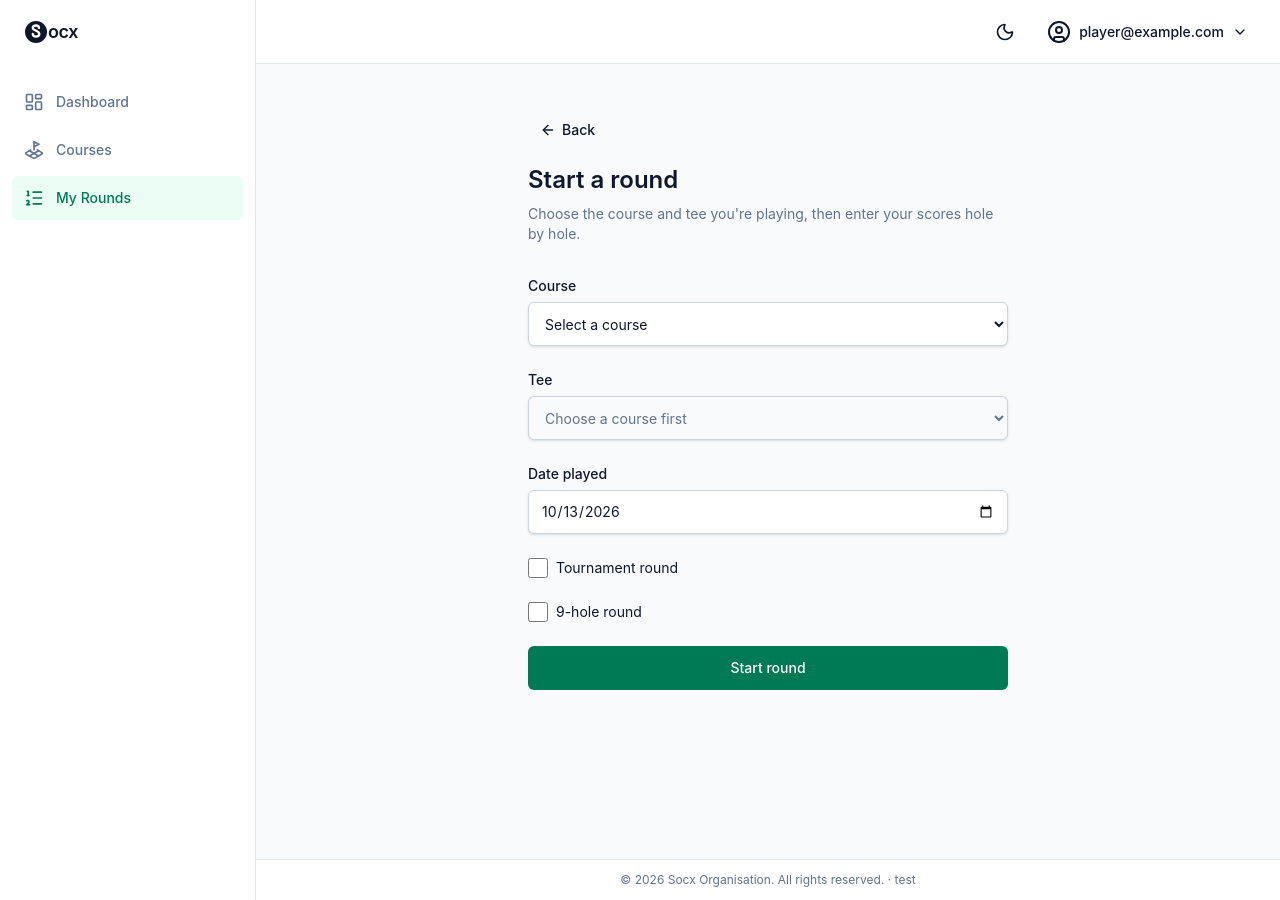
NewRoundPage › creates the round and navigates to its entry screen
Select "Test Links" in the dropdown labelled "Course": (768, 324) [528,302,1008,346]
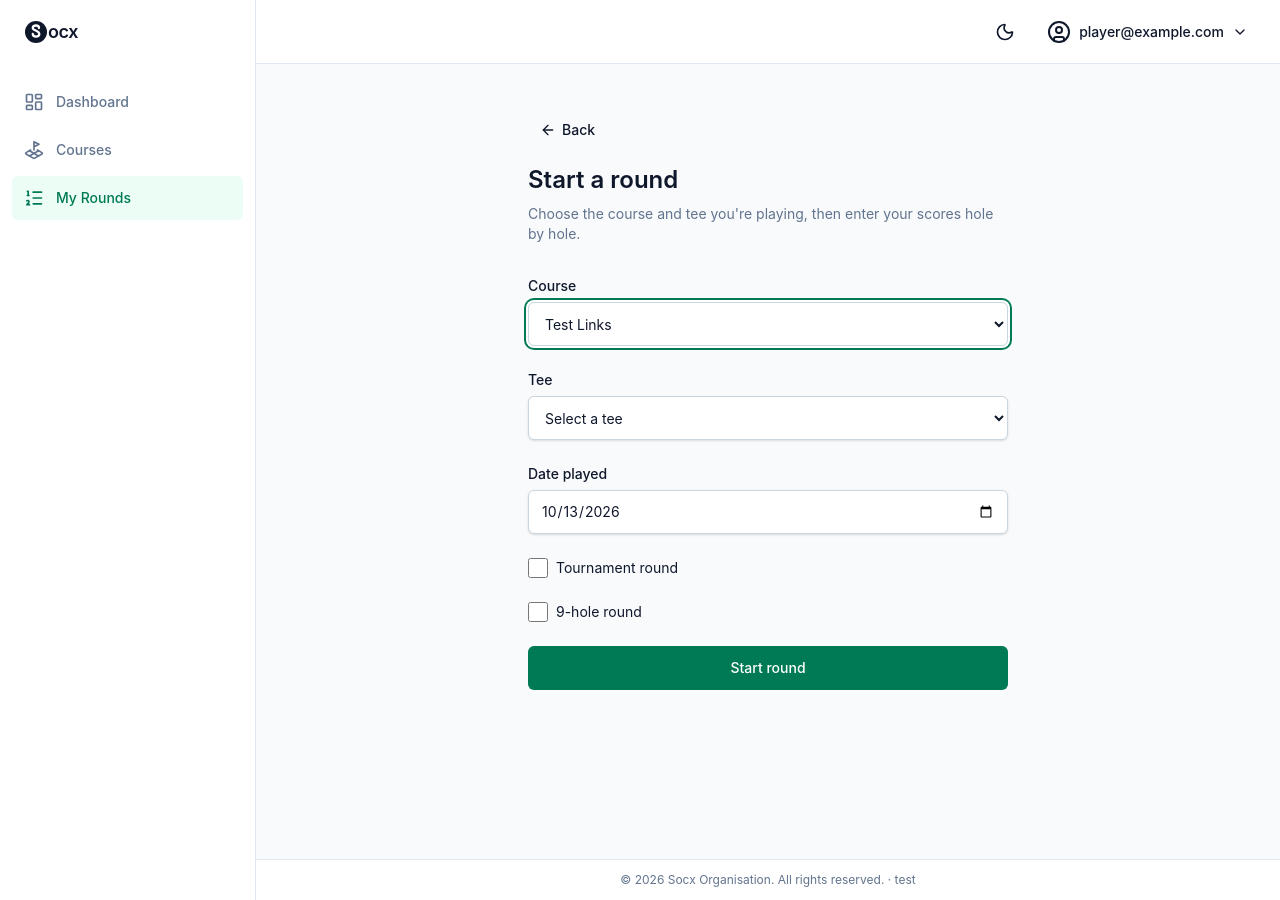
Expected: the dropdown labelled "Tee" is enabled
Select "White (18 holes)" in the dropdown labelled "Tee": (768, 418) [528,396,1008,440]
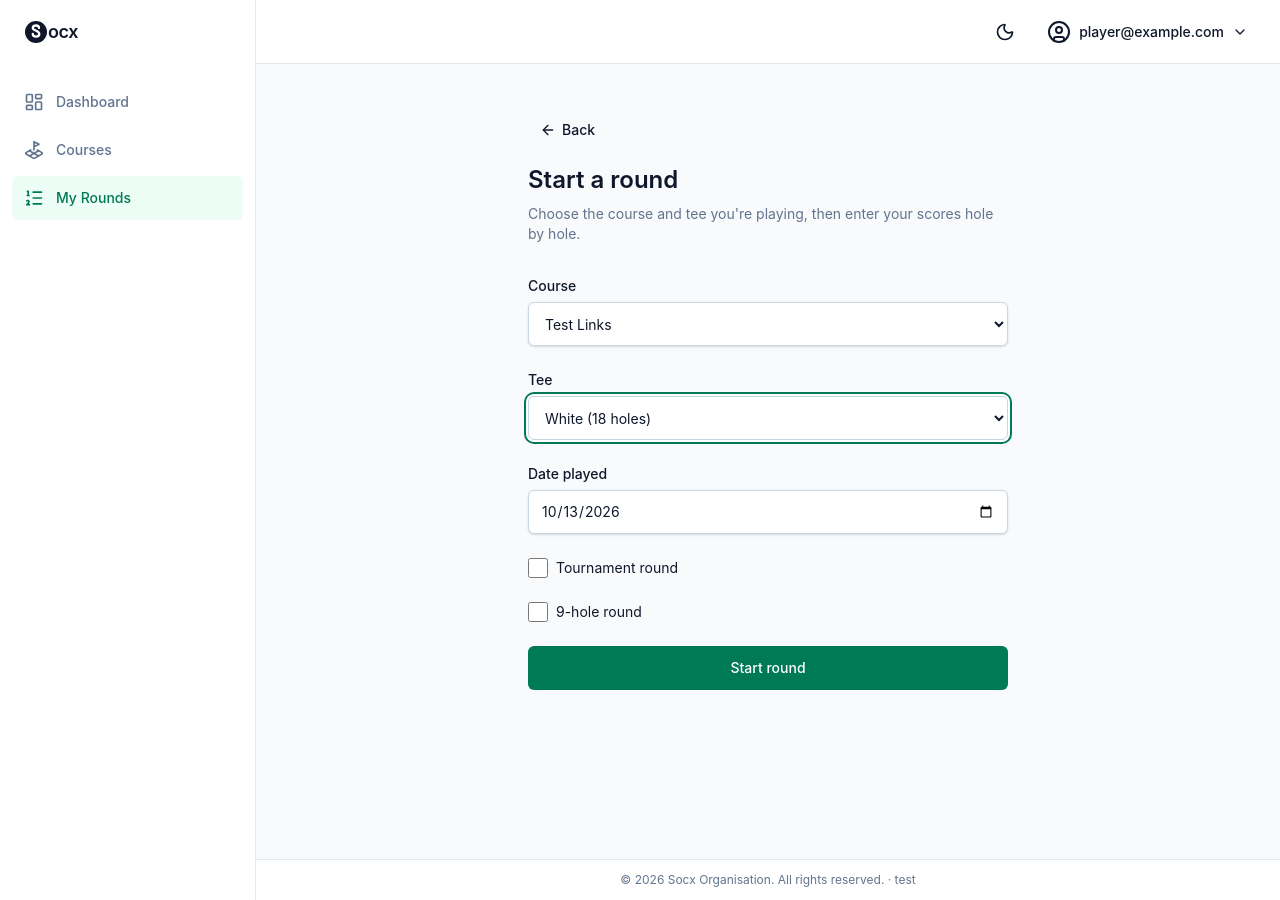
Click the button "Start round": click(768, 668) [528,646,1008,690]
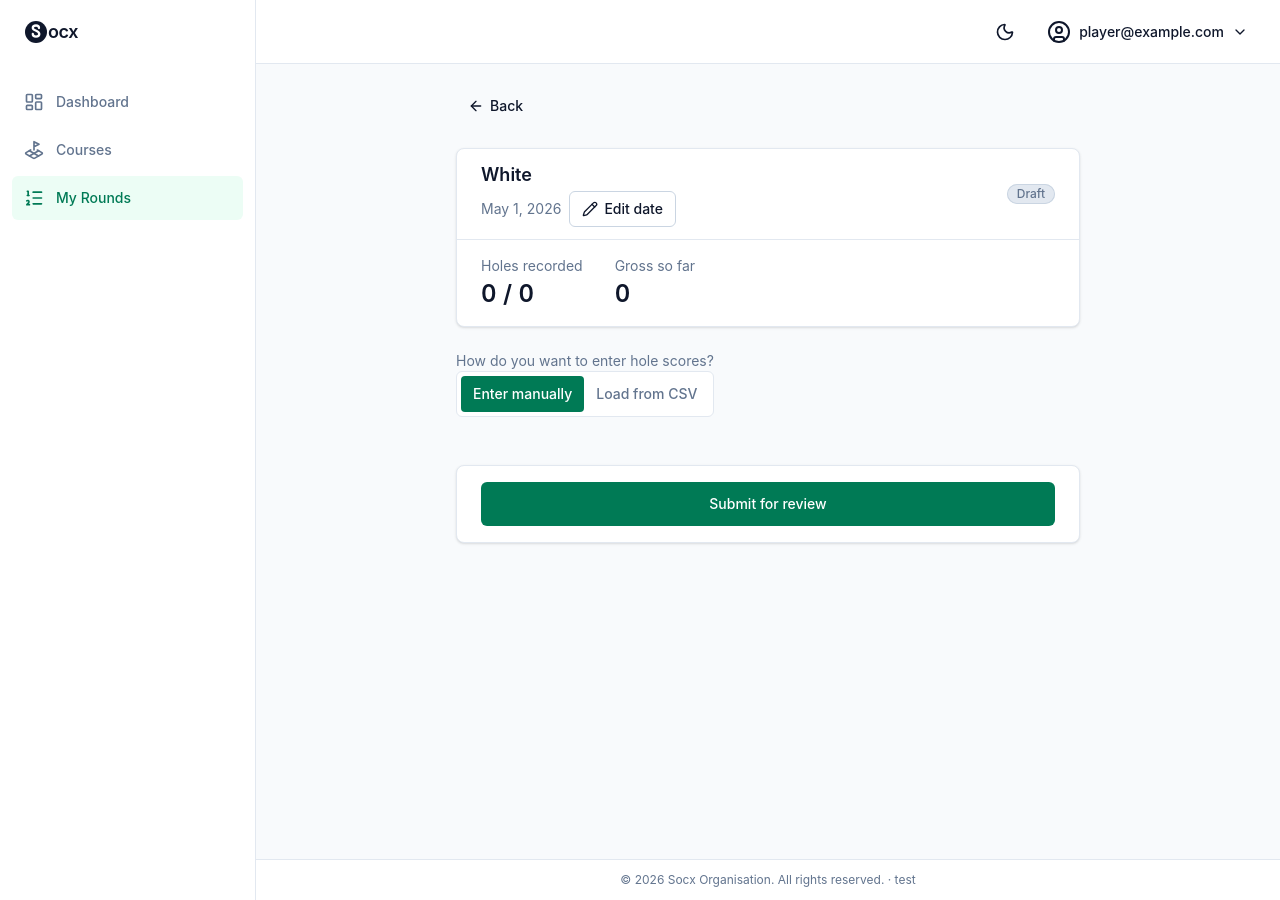
Expected: the text "Holes recorded" is shown, [481,256,583,276]
